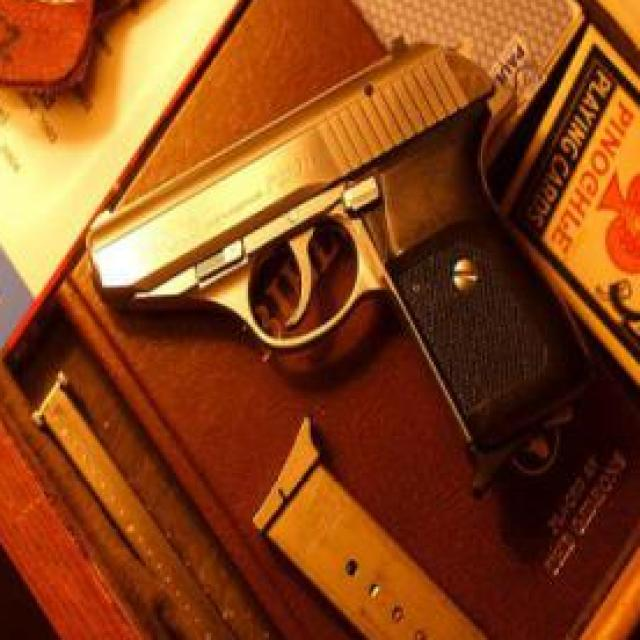pistol: (81, 28, 589, 486)
